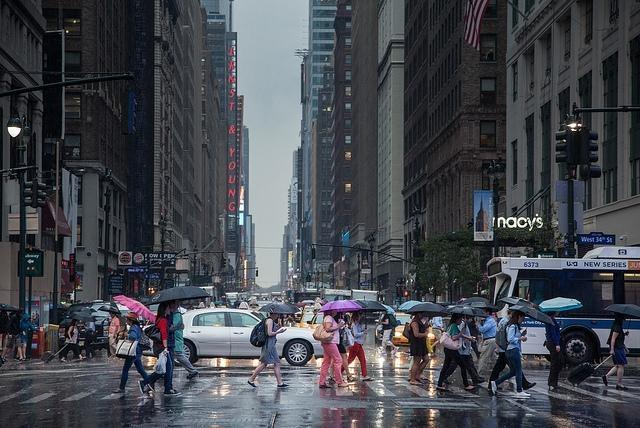bus: (486, 248, 640, 362), (294, 292, 320, 303)
car: (182, 308, 324, 366), (57, 302, 111, 350), (392, 312, 436, 346)
truck: (351, 290, 385, 304), (318, 288, 352, 302)
